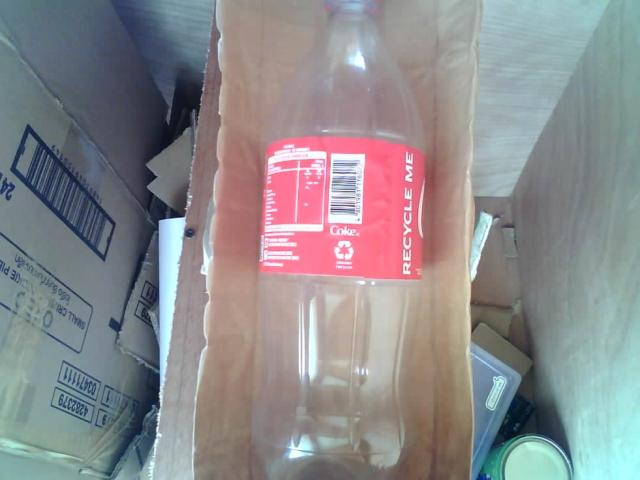large_bottle: (242, 0, 440, 480)
